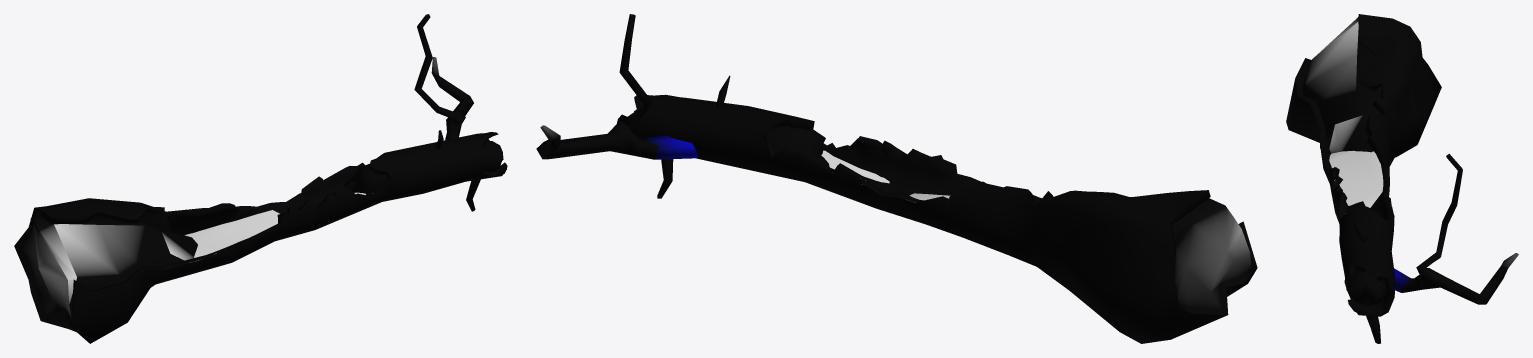
The model's file is BeecthTreeDeadBark_LOD2.fbx.
3 renders of one model, left to right at view 1: azimuth 30°, elevation 25°; view 2: azimuth 150°, elevation 25°; view 3: azimuth 270°, elevation 25°, orthographic. The views are drawn at different scales.
Parts seen in each view (by area): view 1: BeechTrunkDead_LOD2, BeechTrunkDead_Core_LOD2, BeechTrunkDead_Cut_LOD2, BeechTrunkDead_Stiks_LOD2; view 2: BeechTrunkDead_LOD2, BeechTrunkDead_Core_LOD2, BeechTrunkDead_Cut_LOD2, BeechTrunkDead_Stiks_LOD2; view 3: BeechTrunkDead_LOD2, BeechTrunkDead_Core_LOD2, BeechTrunkDead_Stiks_LOD2.
Part boxes in pixels (box(x1,y1,x2,y2)): BeechTrunkDead_LOD2: box(15, 14, 507, 343); BeechTrunkDead_Core_LOD2: box(14, 132, 507, 327); BeechTrunkDead_Cut_LOD2: box(19, 218, 71, 318); BeechTrunkDead_Stiks_LOD2: box(185, 192, 373, 260); BeechTrunkDead_LOD2: box(536, 14, 1256, 343); BeechTrunkDead_Core_LOD2: box(634, 94, 1257, 314); BeechTrunkDead_Cut_LOD2: box(1174, 205, 1251, 309); BeechTrunkDead_Stiks_LOD2: box(821, 150, 950, 202); BeechTrunkDead_LOD2: box(1286, 14, 1518, 343); BeechTrunkDead_Core_LOD2: box(1295, 16, 1394, 316); BeechTrunkDead_Stiks_LOD2: box(1329, 150, 1383, 213).
Bounding box in the file's own units: 10.43 × 3.83 × 4.06.
